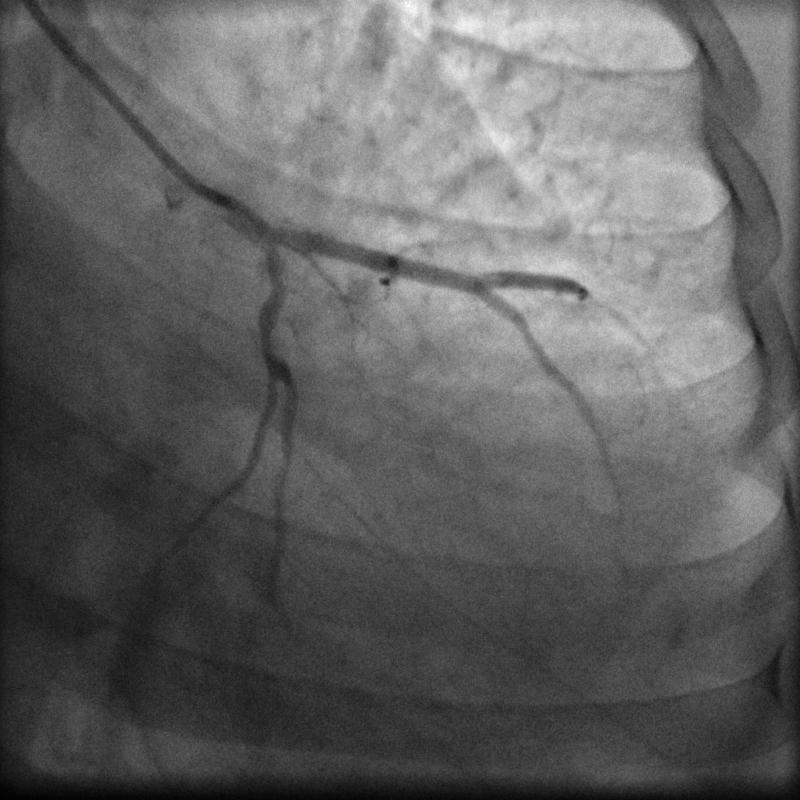Stenosis: (249, 311, 292, 365)
